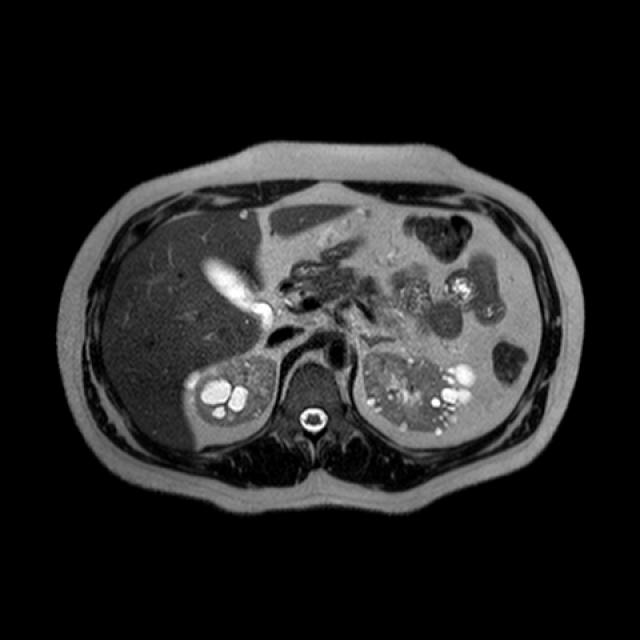sag: (182, 353, 277, 427)
sol: (362, 348, 480, 436)
